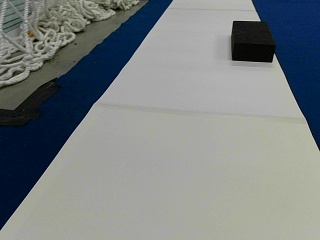block: (230, 20, 274, 62)
